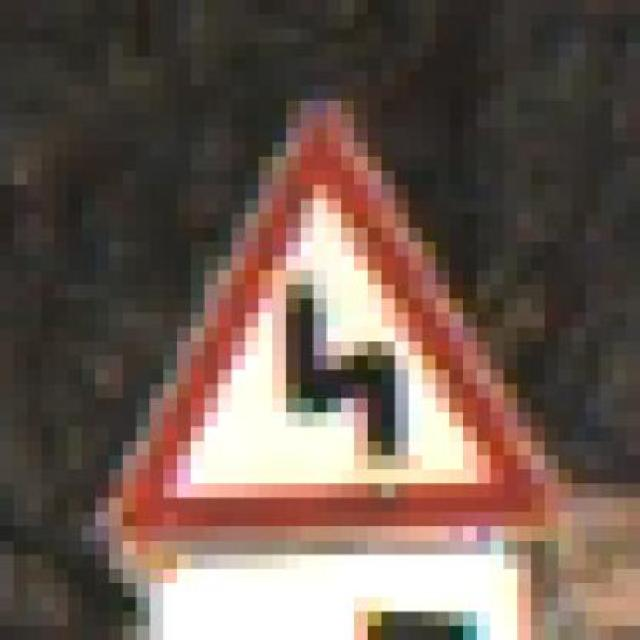Left Zig Zag Traffic: (54, 72, 586, 540)
